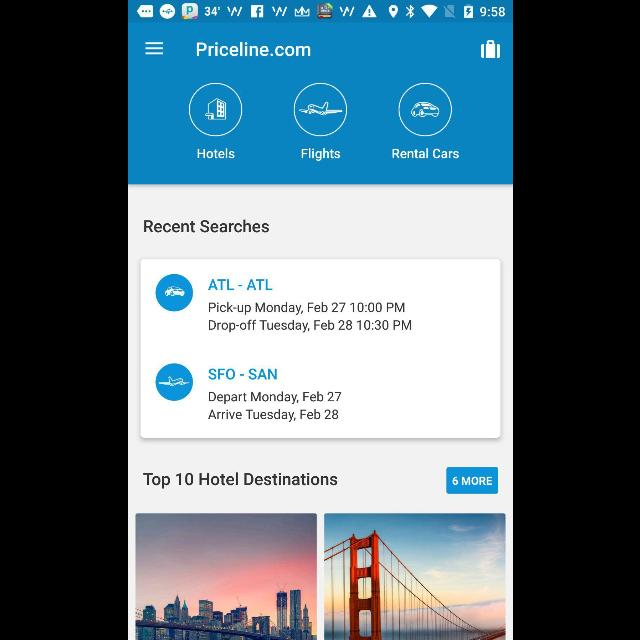icon: (480, 40, 500, 58), (145, 42, 163, 56)
image: (136, 512, 316, 640), (323, 514, 504, 640), (398, 83, 452, 137), (293, 83, 347, 137), (188, 83, 242, 137), (155, 274, 193, 312), (154, 364, 192, 401)
panel: (139, 257, 501, 438)
text: (143, 473, 337, 489), (208, 320, 410, 332), (208, 303, 404, 315), (196, 42, 310, 56), (209, 392, 341, 404), (207, 410, 337, 422), (144, 220, 268, 232), (208, 368, 276, 380), (392, 148, 458, 160), (208, 280, 272, 290), (300, 148, 340, 162), (196, 148, 234, 160)
textbutton: (446, 468, 498, 494)
uppertaskbar: (128, 1, 512, 23)
